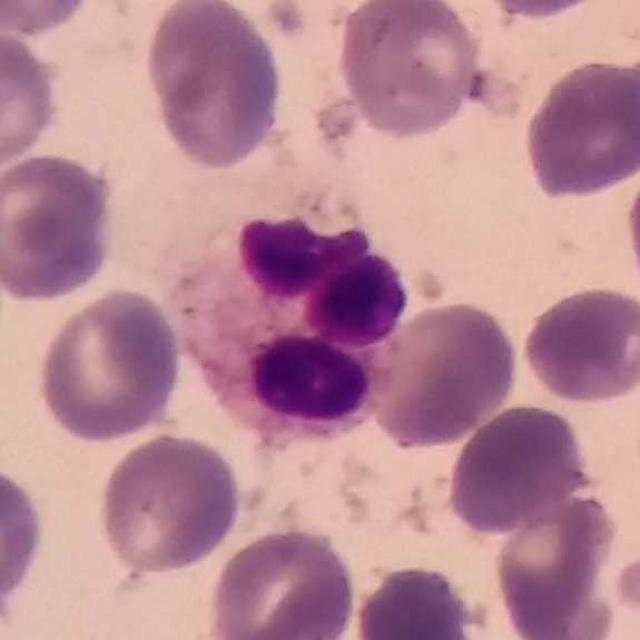Neutrophil: (167, 194, 431, 445)
RBC: (140, 0, 288, 171), (33, 284, 185, 445), (365, 297, 523, 450), (92, 430, 246, 578), (488, 482, 624, 639), (334, 0, 486, 139), (444, 399, 589, 536), (0, 148, 120, 306), (204, 523, 360, 640), (518, 54, 640, 201), (517, 281, 640, 408), (348, 560, 491, 640), (0, 24, 63, 176), (0, 459, 49, 632), (570, 548, 640, 640), (0, 0, 97, 39), (459, 0, 620, 21), (620, 150, 640, 315)
